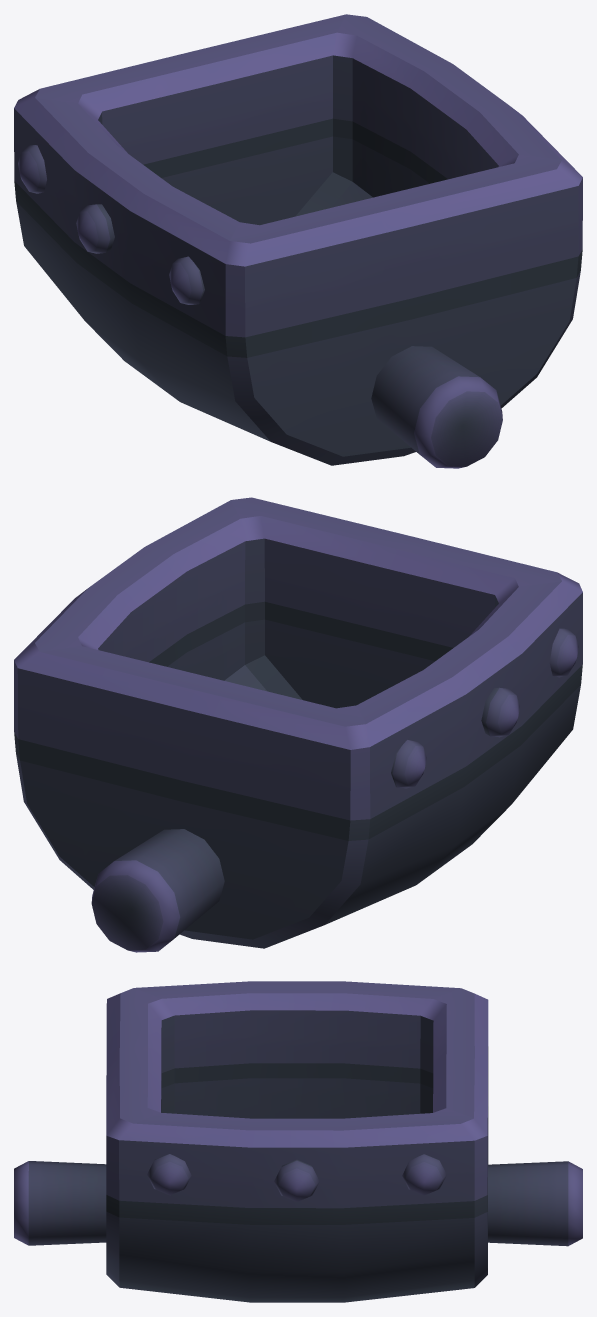
File: undad_minecart_bucket_anim.fbx
3 renders of one model, top to bottom at view 1: azimuth 30°, elevation 25°; view 2: azimuth 150°, elevation 25°; view 3: azimuth 270°, elevation 25°, orthographic. The views are drawn at different scales.
Parts seen in each view (by area): view 1: undad_minecart_bucket_anim; view 2: undad_minecart_bucket_anim; view 3: undad_minecart_bucket_anim.
Boxes of the visible parts, x1,y1,x2,y2 form: undad_minecart_bucket_anim: (14, 14, 582, 468); undad_minecart_bucket_anim: (14, 497, 582, 952); undad_minecart_bucket_anim: (14, 981, 582, 1302).
Size of the model in its own units: 1.35 by 0.7693 by 1.8.
